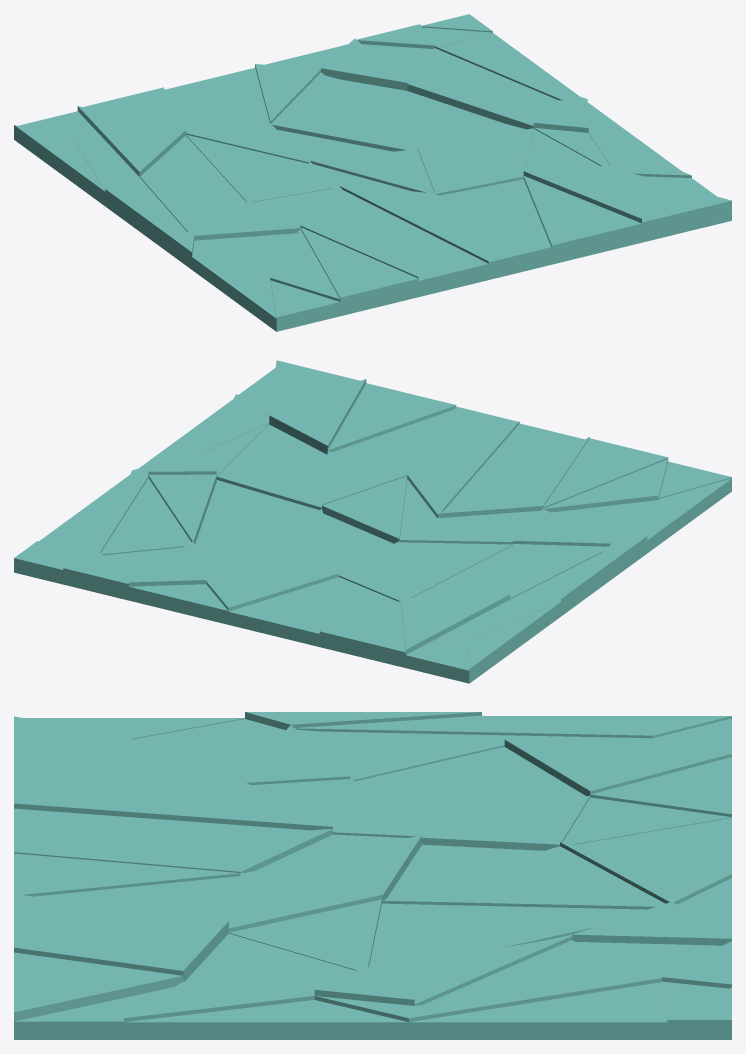
Rendered from zylmontskin_seaweed.fbx.
The picture shows the model from 3 angles, top to bottom: view 1: azimuth 30°, elevation 25°; view 2: azimuth 150°, elevation 25°; view 3: azimuth 270°, elevation 25°; orthographic projection. The views are drawn at different scales.
Visible parts, largest first — view 1: Cube; view 2: Cube; view 3: Cube.
Boxes of the visible parts, left/top/right/bottom form: Cube: left=14, top=14, right=731, bottom=331; Cube: left=14, top=360, right=731, bottom=683; Cube: left=14, top=712, right=731, bottom=1039.
Bounding box in the file's own units: 1202 × 59.74 × 1200.
